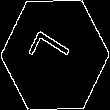L_SE: (29, 30, 81, 80)
